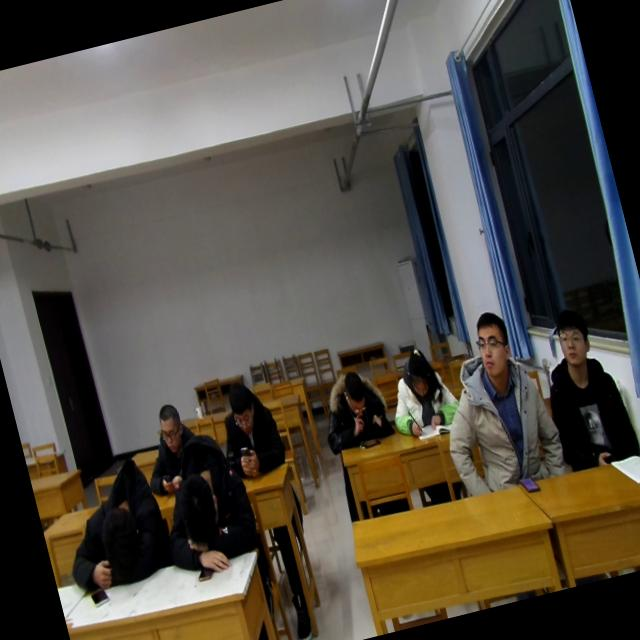bow: (46, 456, 176, 596), (146, 437, 266, 584)
down: (221, 377, 263, 439), (398, 343, 439, 404), (147, 398, 188, 454), (334, 364, 374, 421)
lookup: (466, 301, 518, 383), (546, 300, 598, 372)
sit: (418, 297, 568, 497), (527, 300, 640, 475), (131, 391, 221, 492), (208, 374, 290, 484), (377, 340, 462, 437), (310, 362, 398, 452)
